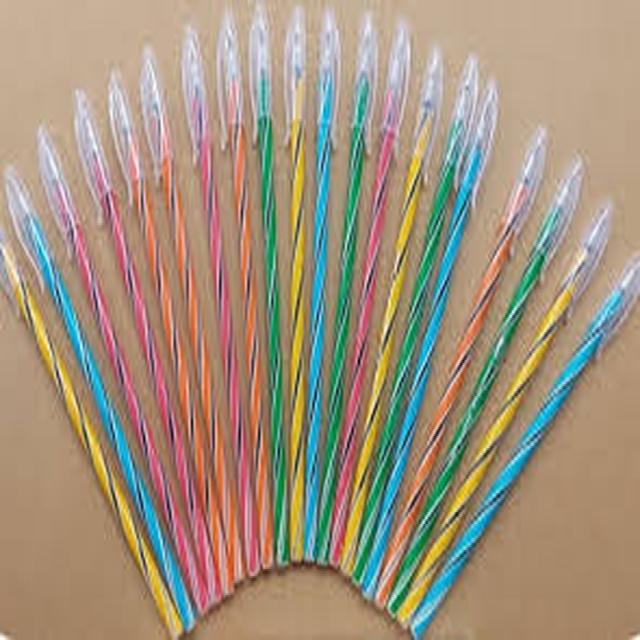pen: (5, 7, 626, 637)
